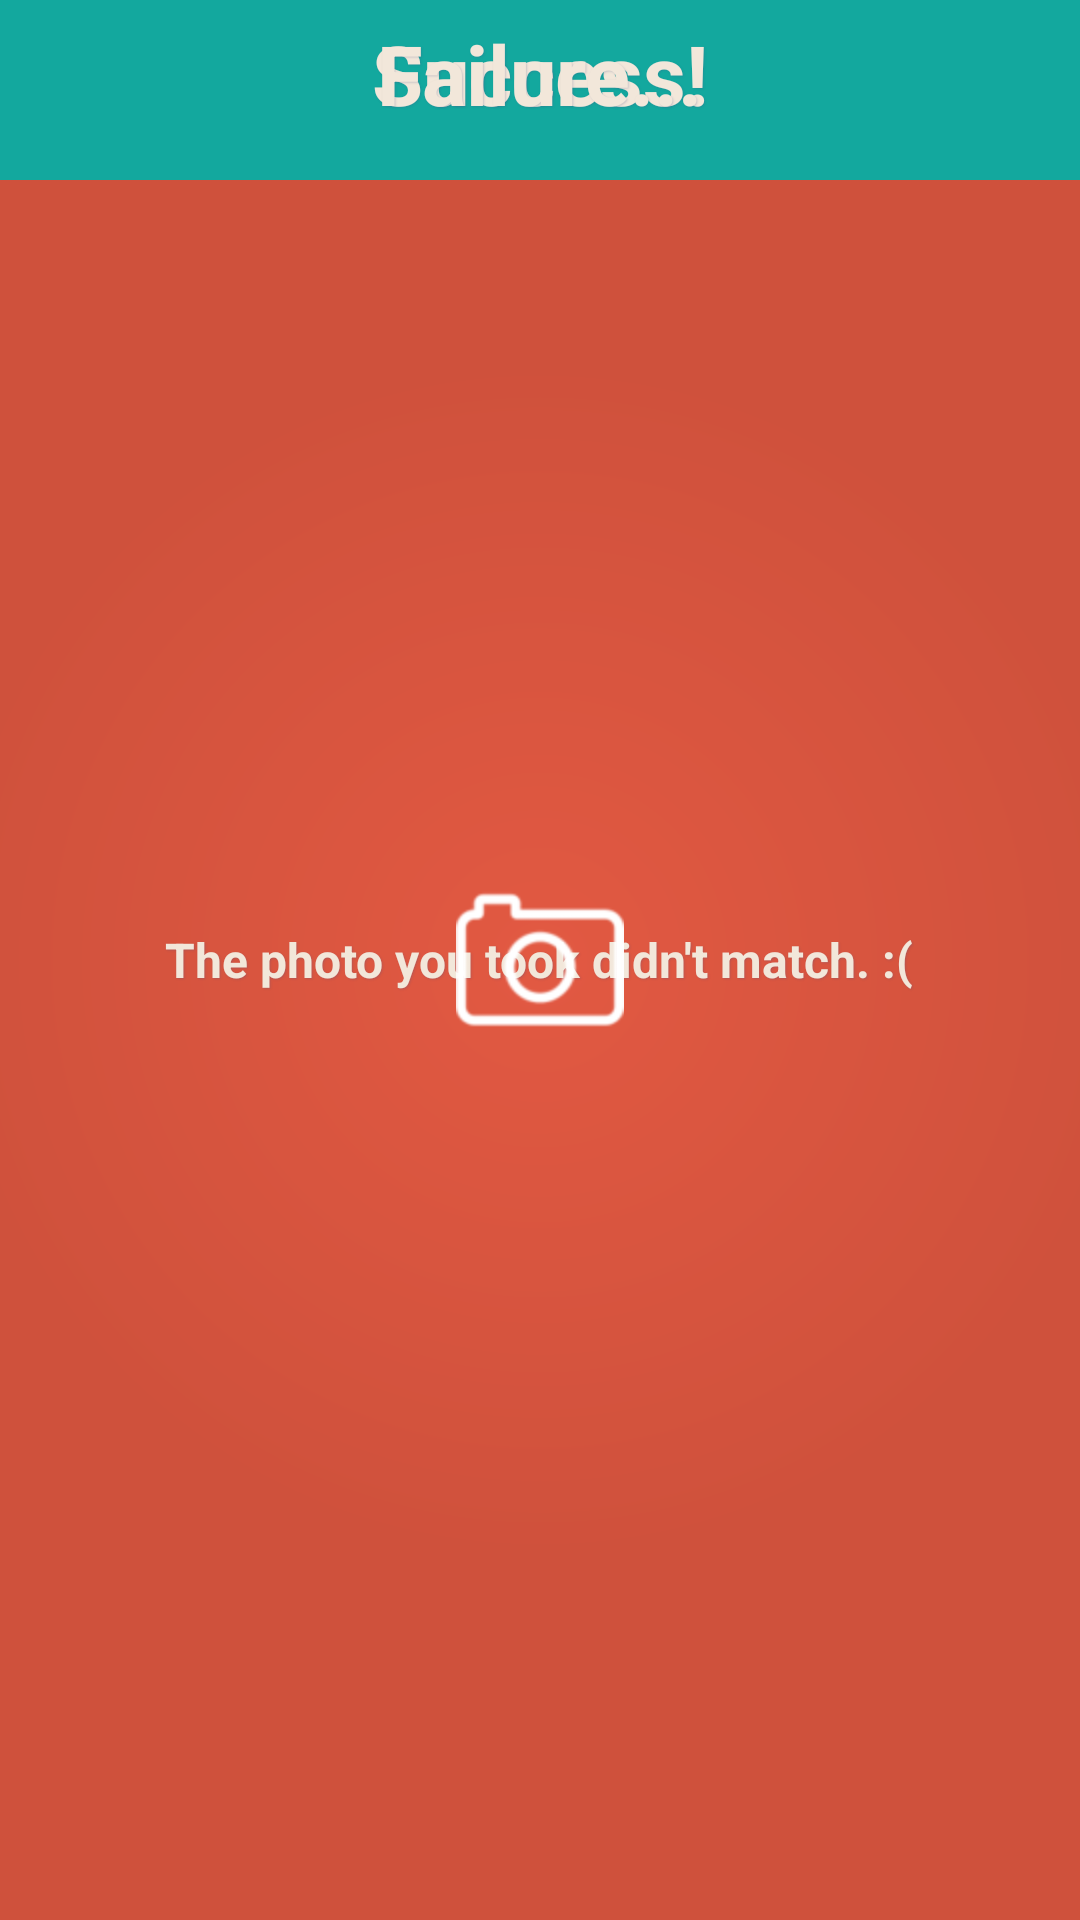

Icons on this 1080w x 1920h Android screen, each with its box as (x1=x1, y1=y1, x2=x2, y2=y2):
camera: (x1=456, y1=893, x2=624, y2=1027)
